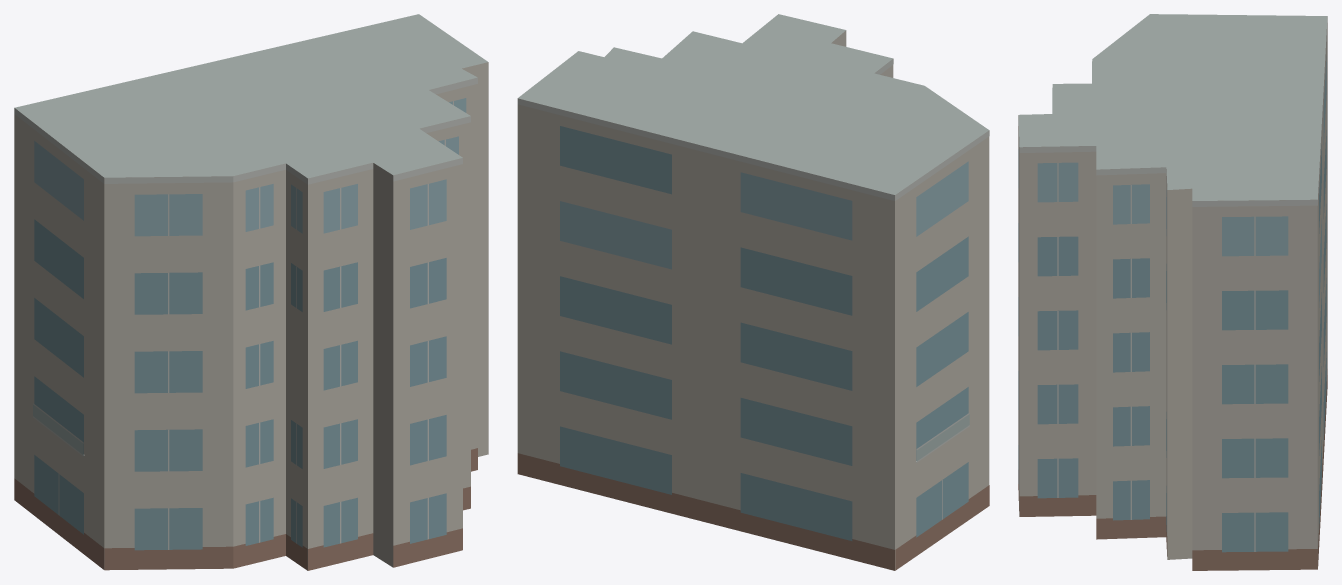
Rendered from survey-upis-32873197.glb.
The picture shows the model from 3 angles, left to right: view 1: azimuth 30°, elevation 25°; view 2: azimuth 150°, elevation 25°; view 3: azimuth 270°, elevation 25°; orthographic projection. The views are drawn at different scales.
Parts seen in each view (by area): view 1: survey-upis-32873197.tmp; view 2: survey-upis-32873197.tmp; view 3: survey-upis-32873197.tmp.
Boxes of the visible parts, x1=… form: survey-upis-32873197.tmp: x1=14, y1=14, x2=488, y2=570; survey-upis-32873197.tmp: x1=517, y1=14, x2=989, y2=570; survey-upis-32873197.tmp: x1=1018, y1=14, x2=1327, y2=570.
Size of the model in its own units: 16.55 by 15.25 by 11.56.
